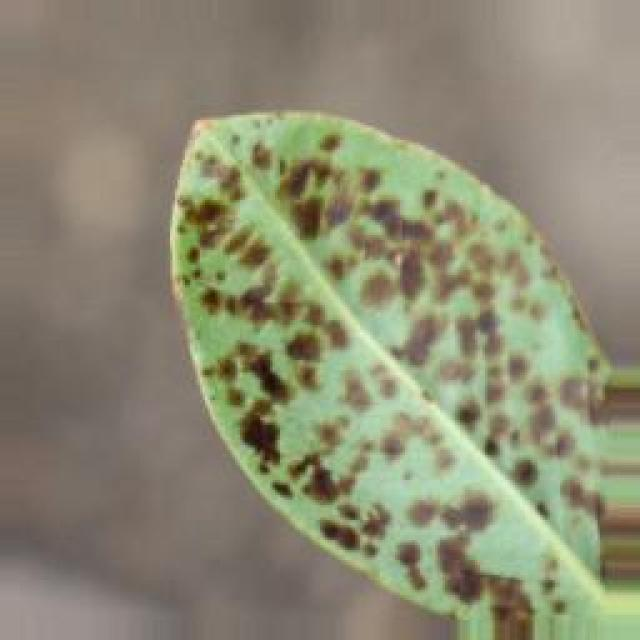Whitefly: (128, 89, 577, 640)
